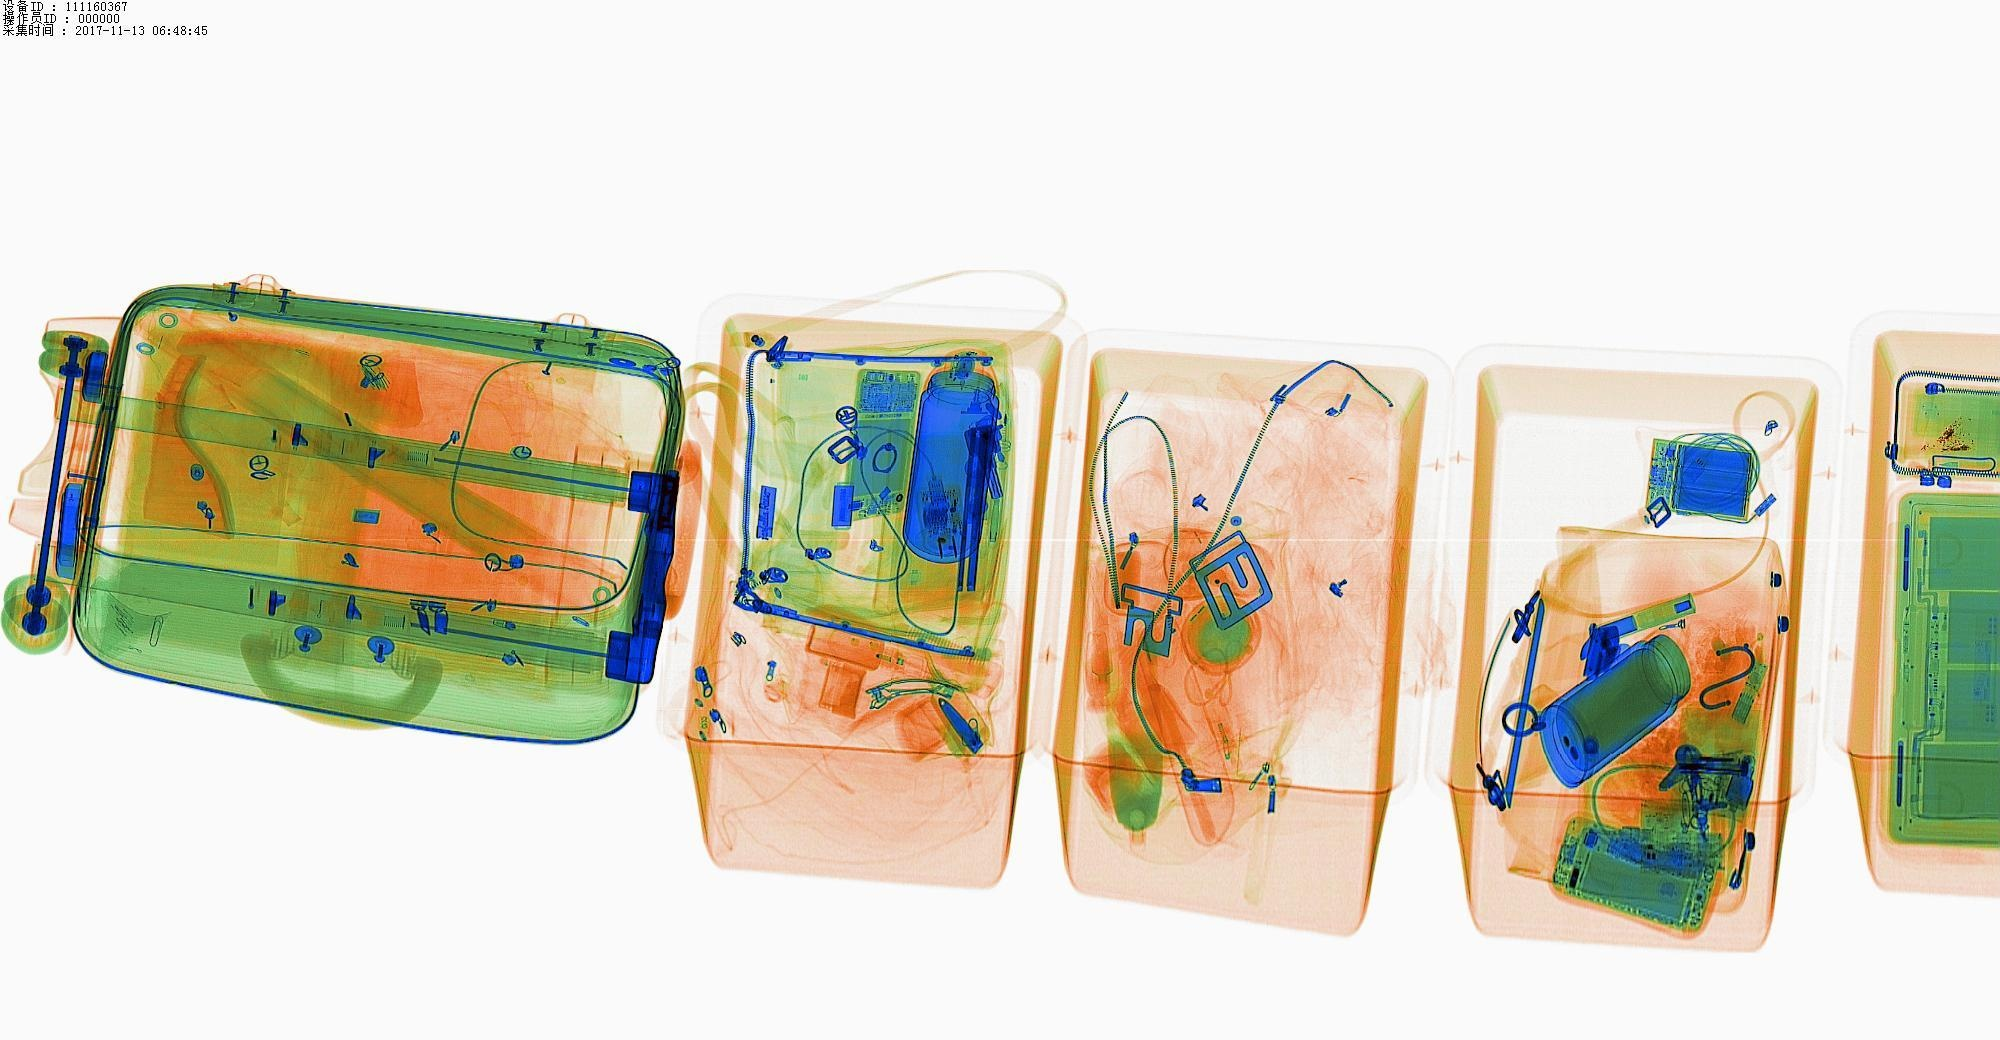core: (1653, 445, 1759, 517)
